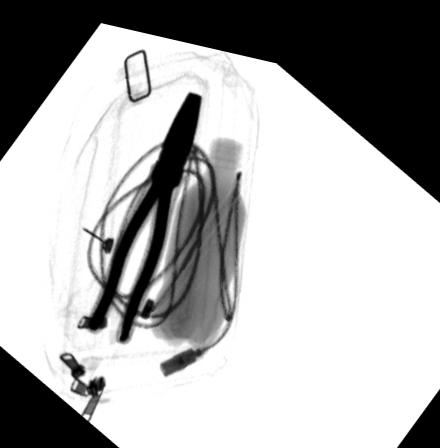Pliers: (83, 81, 202, 339)
